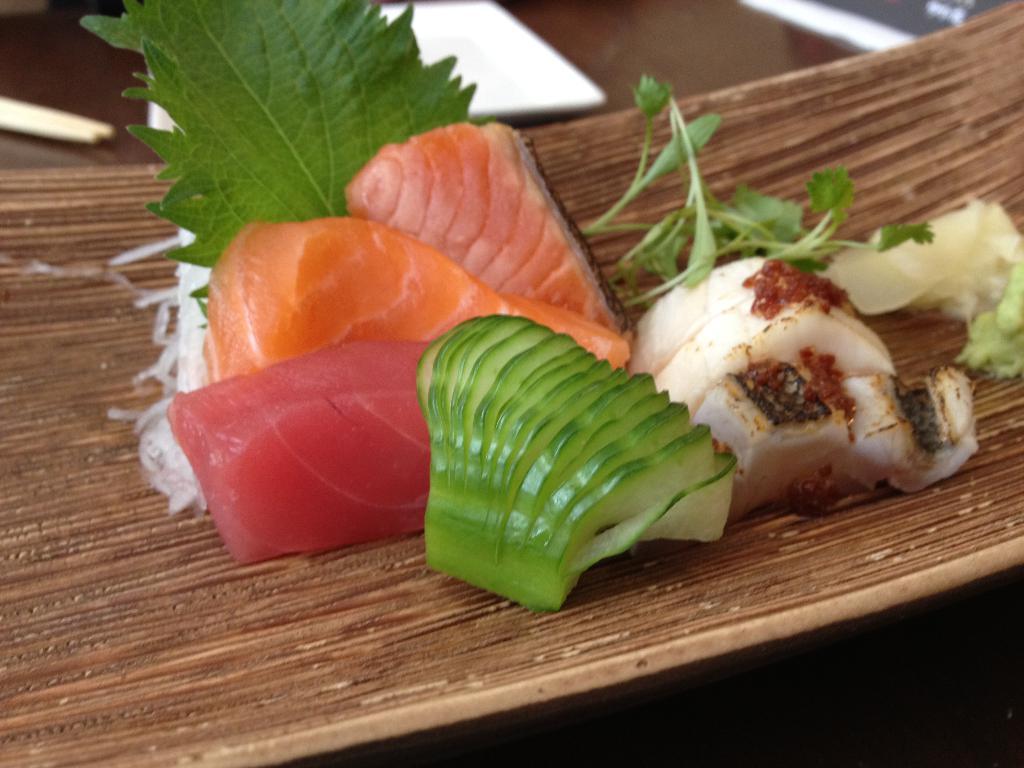sushi: (415, 308, 742, 616), (625, 241, 980, 512), (153, 309, 461, 563), (204, 209, 645, 385), (335, 113, 633, 333)
